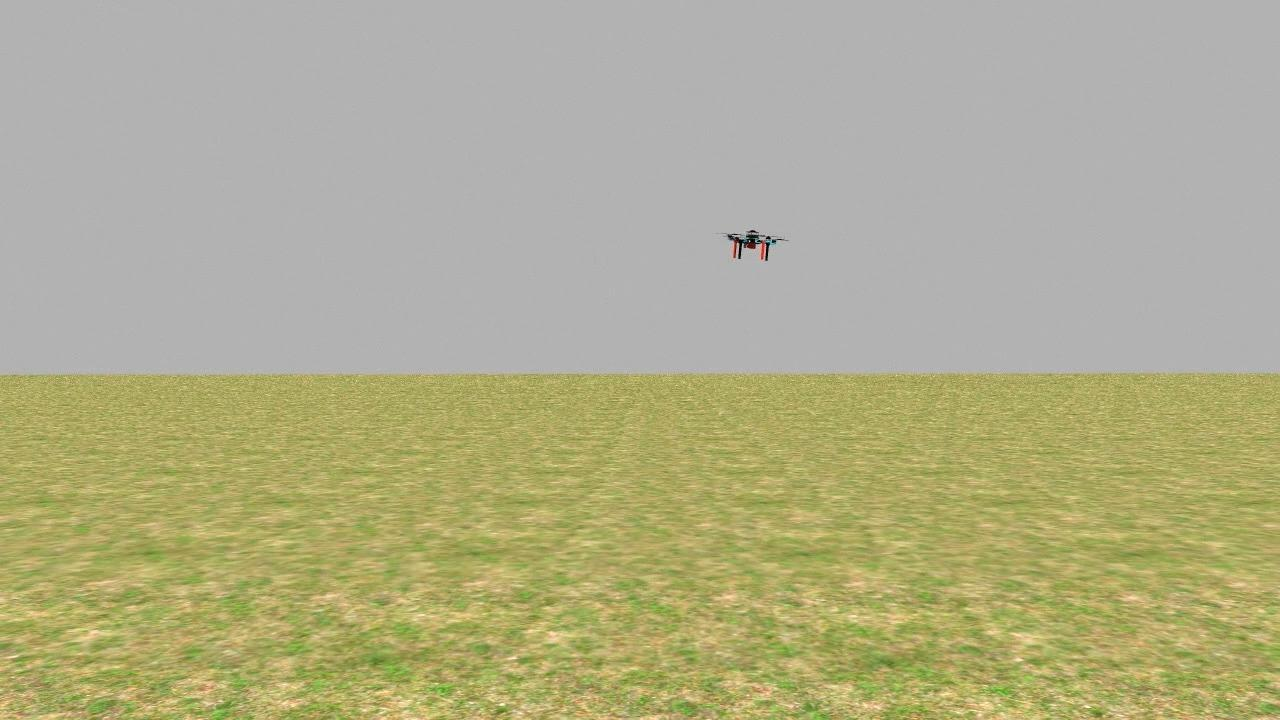UAV: (710, 219, 793, 270)
